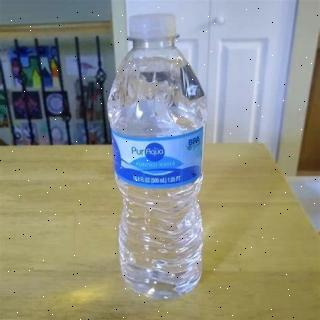Plastic-bottle: (109, 10, 217, 308)
